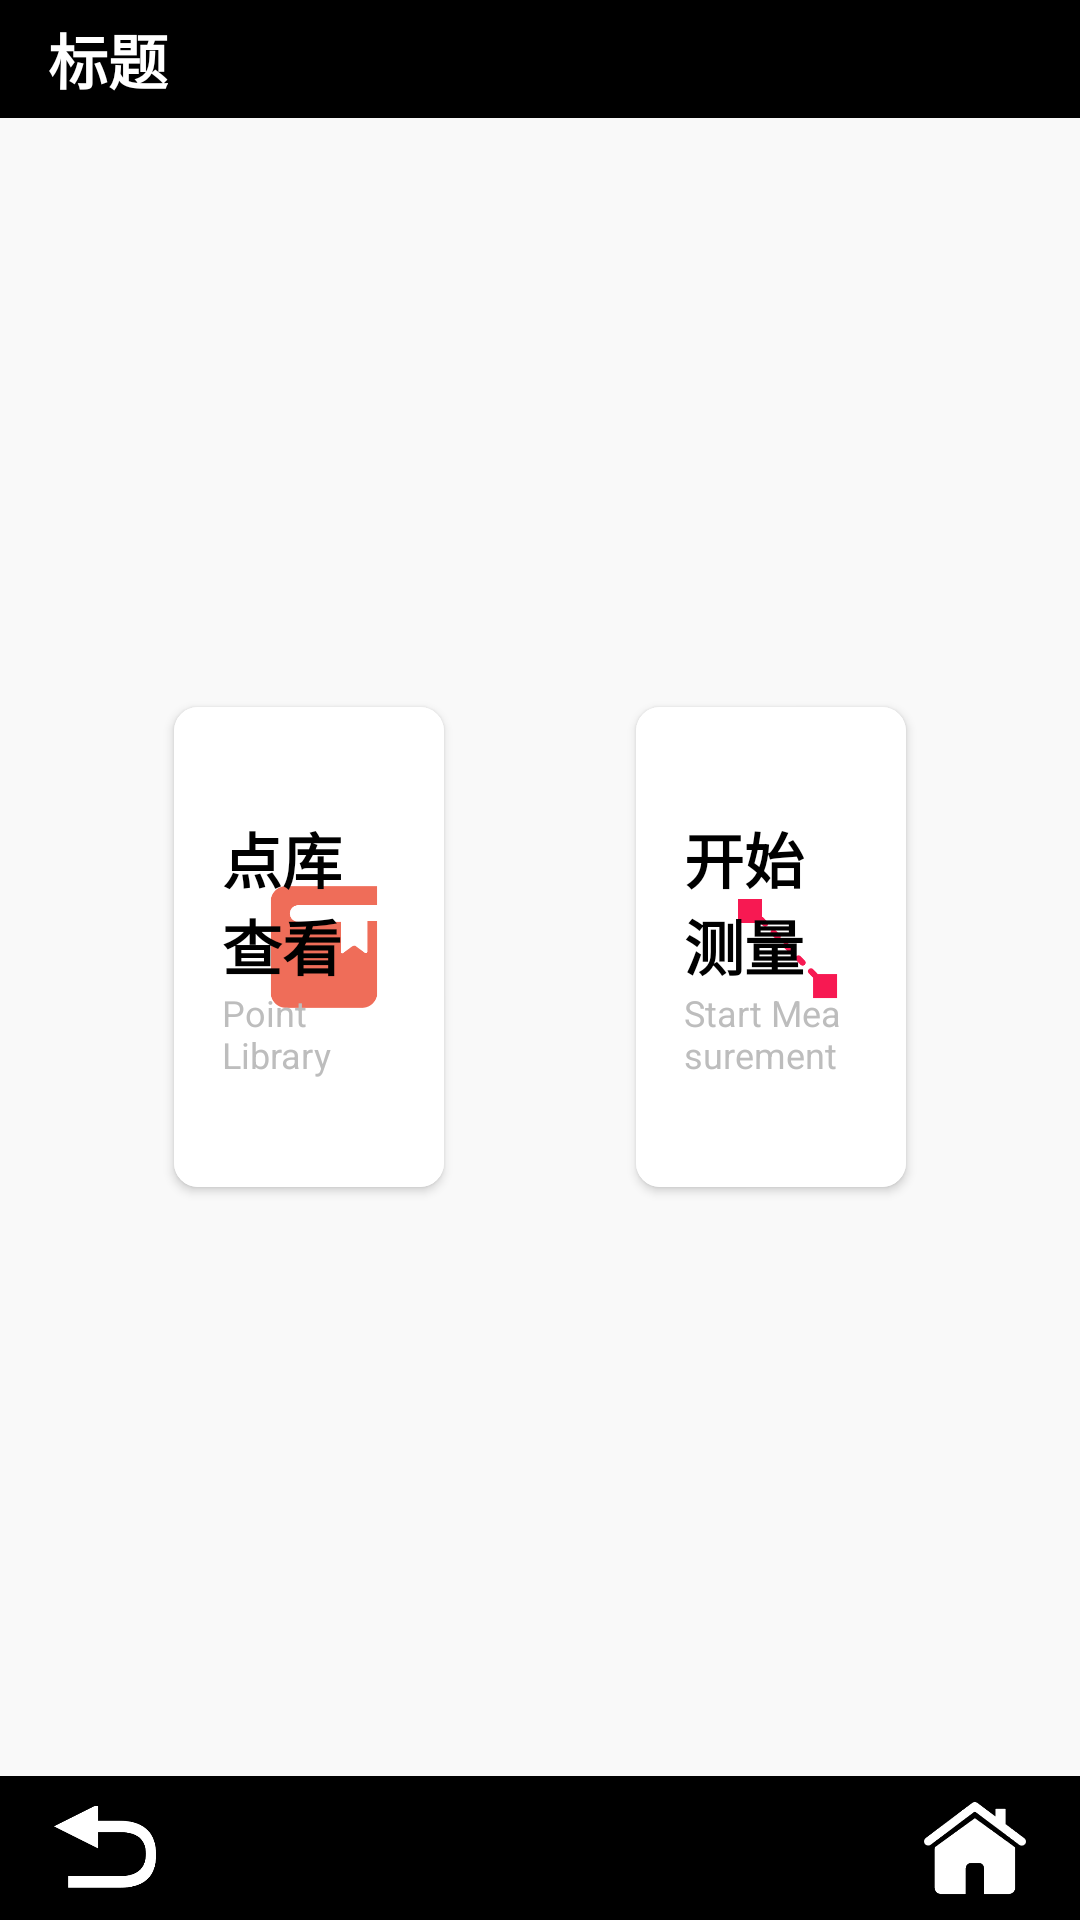

Screen size 1080*1920. Icon name, then its box in pixels as (x1, y1, x2, y2):
返回: (54, 1806, 156, 1888)
